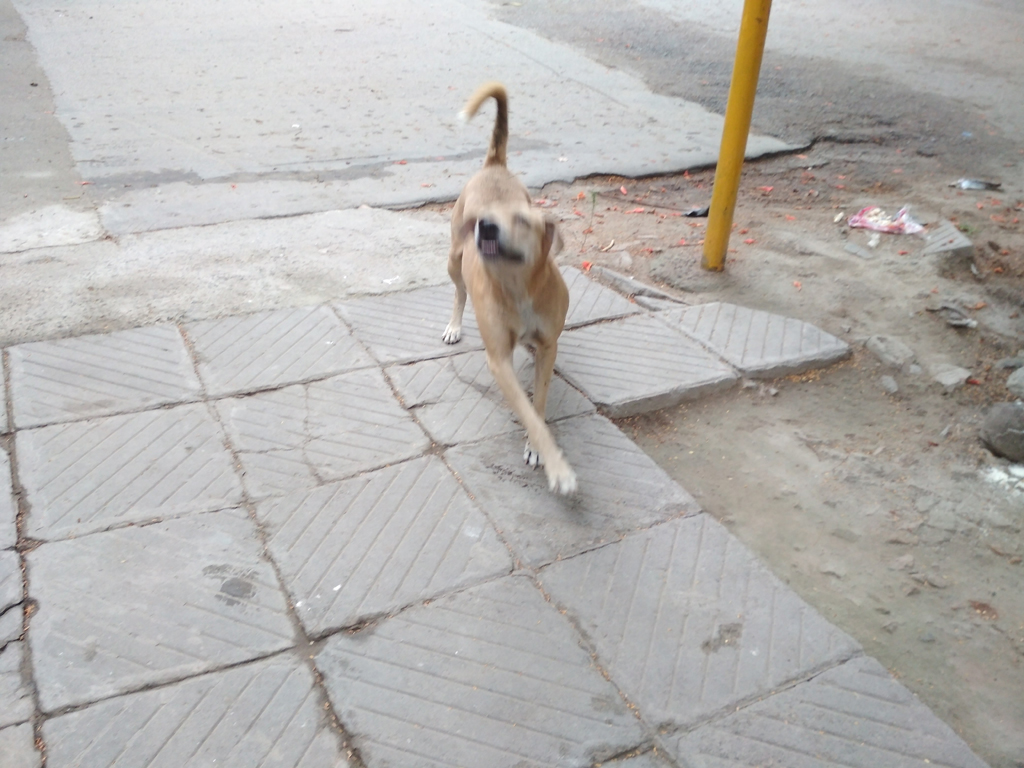dog: (441, 81, 576, 500)
